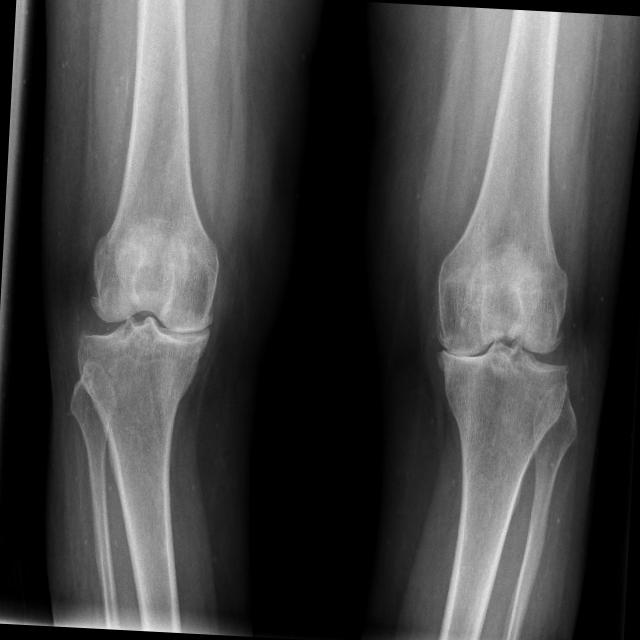Knee: (77, 252, 225, 384), (431, 283, 579, 406)
